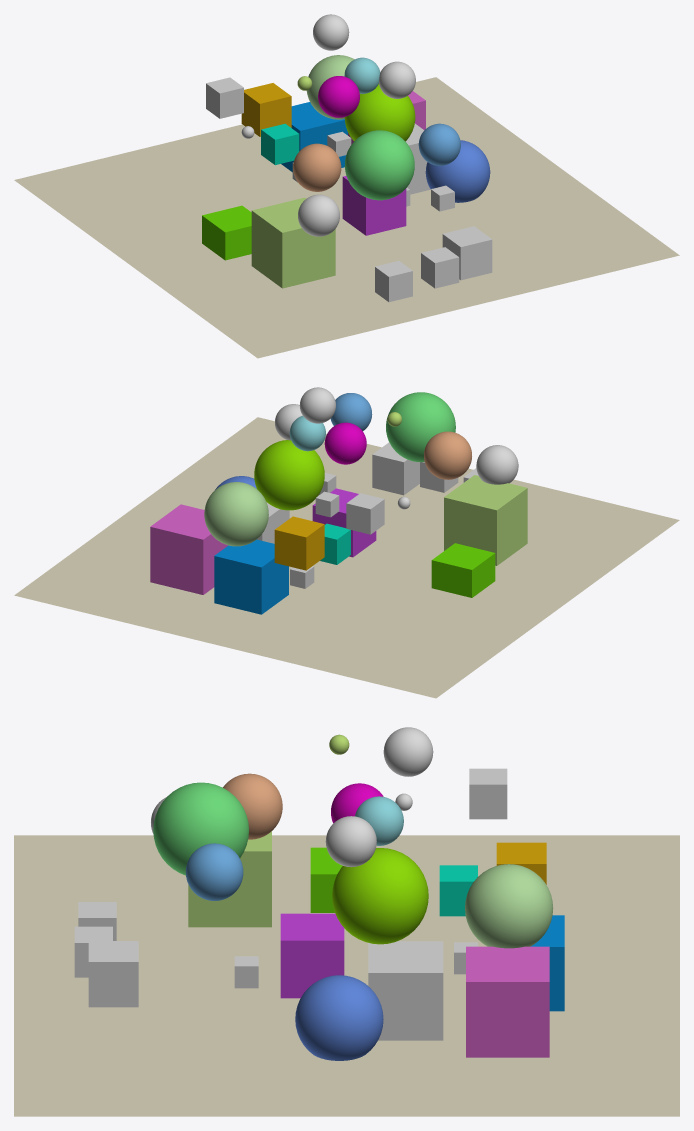
The model's file is cubes_spheres.dae.
The picture shows the model from 3 angles, top to bottom: view 1: azimuth 30°, elevation 25°; view 2: azimuth 150°, elevation 25°; view 3: azimuth 270°, elevation 25°; orthographic projection. The views are drawn at different scales.
Parts seen in each view (by area): view 1: Plane, Cube, Icosphere_003, Icosphere_009, Icosphere_001, Cube_005, Cube_011, Cube_013, Cube_003, Icosphere_008, Cube_009, Icosphere (+12 smaller); view 2: Plane, Cube, Cube_016, Cube_009, Icosphere_009, Icosphere_010, Icosphere_003, Cube_011, Cube_013, Icosphere_008, Cube_003, Icosphere_005 (+11 smaller); view 3: Plane, Cube_016, Icosphere_009, Cube_007, Icosphere_001, Icosphere_010, Icosphere_003, Cube_005, Cube, Cube_003, Icosphere, Icosphere_008 (+12 smaller).
Boxes of the visible parts, x1,y1,x2,y2 form: Plane: (14, 77, 679, 358); Cube: (251, 197, 335, 288); Icosphere_003: (344, 130, 414, 200); Icosphere_009: (344, 84, 415, 141); Icosphere_001: (425, 140, 490, 202); Cube_005: (342, 176, 406, 235); Cube_011: (202, 205, 251, 260); Cube_013: (241, 83, 291, 136); Cube_003: (442, 226, 492, 280); Icosphere_008: (293, 143, 341, 191); Cube_009: (281, 102, 347, 172); Icosphere: (418, 123, 460, 165); Plane: (14, 417, 679, 698); Cube: (444, 475, 527, 565); Cube_016: (150, 504, 227, 594); Cube_009: (214, 539, 288, 614); Icosphere_009: (254, 440, 324, 510); Icosphere_010: (204, 482, 268, 546); Icosphere_003: (386, 392, 455, 462); Cube_011: (431, 543, 495, 597); Cube_013: (274, 516, 324, 570); Icosphere_008: (424, 431, 471, 479); Cube_003: (372, 442, 419, 495); Icosphere_005: (324, 422, 366, 464); Plane: (14, 835, 679, 1116); Cube_016: (466, 946, 549, 1057); Icosphere_009: (332, 848, 428, 944); Cube_007: (368, 941, 443, 1040); Icosphere_001: (295, 975, 383, 1060); Icosphere_010: (465, 864, 553, 948); Icosphere_003: (153, 782, 248, 875); Cube_005: (280, 913, 344, 998); Cube: (188, 831, 271, 927); Cube_003: (88, 941, 138, 1007); Icosphere: (185, 843, 243, 900); Icosphere_008: (223, 773, 282, 839).
Bounding box in the file's own units: 14.62 × 14.62 × 6.54.
